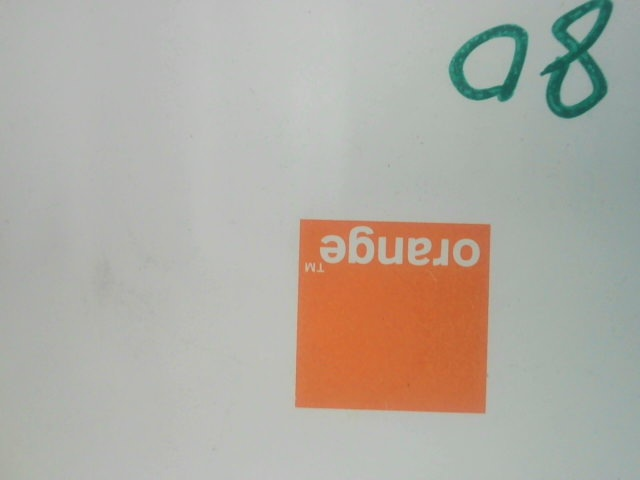AR_Orange: (283, 211, 495, 419)
